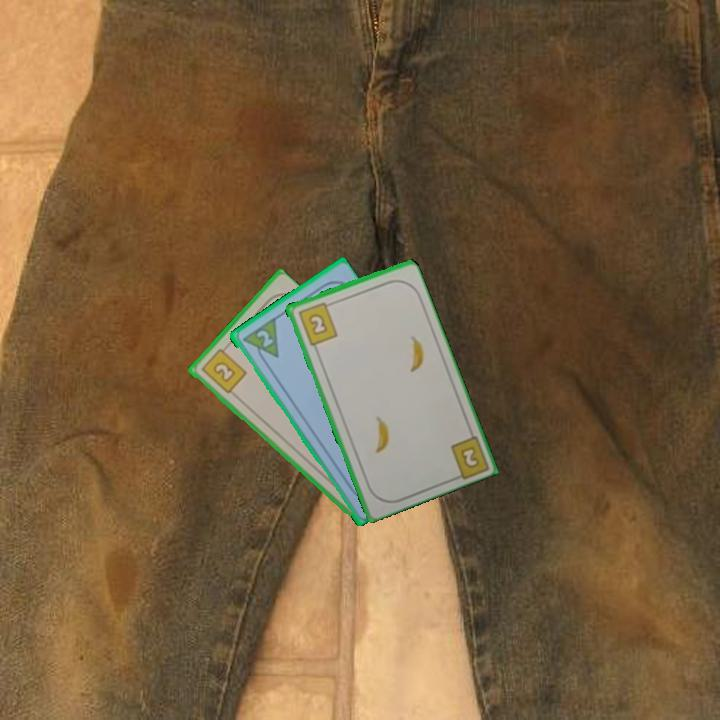2b: (197, 342, 249, 397), (294, 298, 340, 348), (457, 442, 482, 471)
2p: (253, 326, 276, 350)
